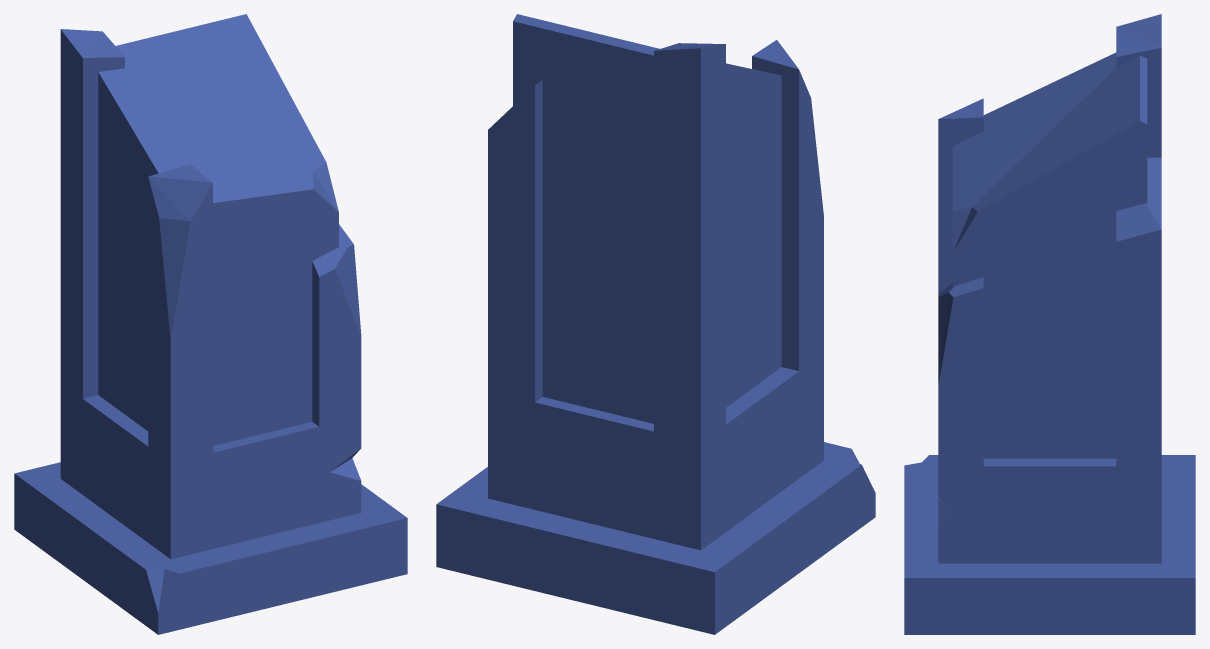
The model's file is broken_pilar_02.fbx.
3 views of the same model, side by side, from view 1: azimuth 30°, elevation 25°; view 2: azimuth 150°, elevation 25°; view 3: azimuth 270°, elevation 25° (orthographic). The views are drawn at different scales.
Visible parts, largest first — view 1: Pillar_01.001; view 2: Pillar_01.001; view 3: Pillar_01.001.
Boxes of the visible parts, x1,y1,x2,y2 form: Pillar_01.001: (14, 14, 407, 634); Pillar_01.001: (436, 14, 875, 634); Pillar_01.001: (904, 14, 1195, 634).
Size of the model in its own units: 103 by 199 by 103.
